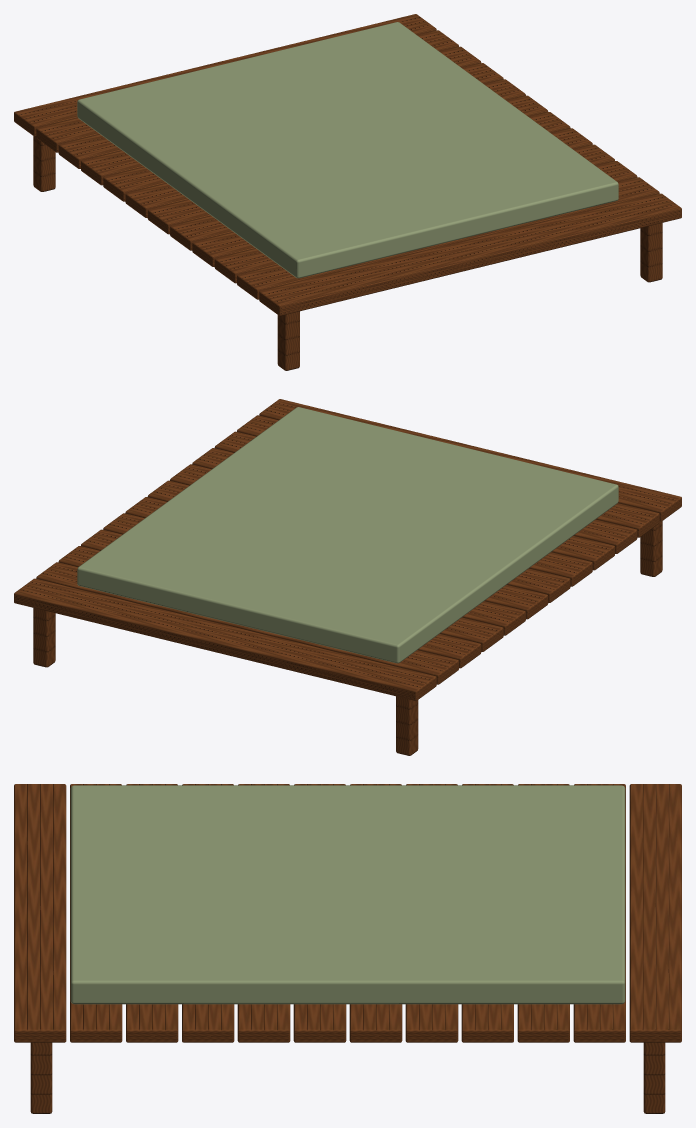
File: creature-husbandry-and-transport-resting-platform-be6d80e9__23983.glb
The picture shows the model from 3 angles, top to bottom: view 1: azimuth 30°, elevation 25°; view 2: azimuth 150°, elevation 25°; view 3: azimuth 270°, elevation 25°; orthographic projection. The views are drawn at different scales.
Parts seen in each view (by area): view 1: resting-platform; view 2: resting-platform; view 3: resting-platform.
Boxes of the visible parts, box(x1,y1,x2,y2) form: resting-platform: box(14, 14, 681, 370); resting-platform: box(14, 399, 681, 755); resting-platform: box(14, 784, 681, 1113).
Size of the model in its own units: 2 by 0.44 by 2.29.
Materials: 2 (1 with a texture image).
